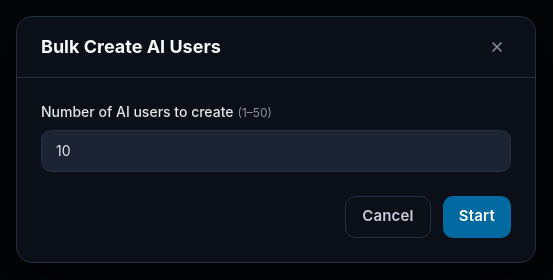
BulkCreateModal › Start button is disabled when count is out of range (0)
The image size is (553, 280).
Step 1. Replace the text in the number field with "0" → [276, 150], box top-left (41, 130), bottom-right (511, 172)
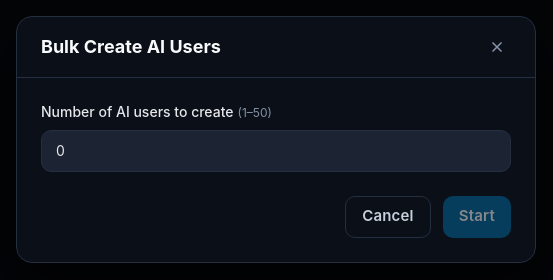
Expected: the button "Start" is disabled, top-left (443, 196), bottom-right (511, 238)
